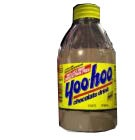grozi_74: (57, 3, 117, 132)
